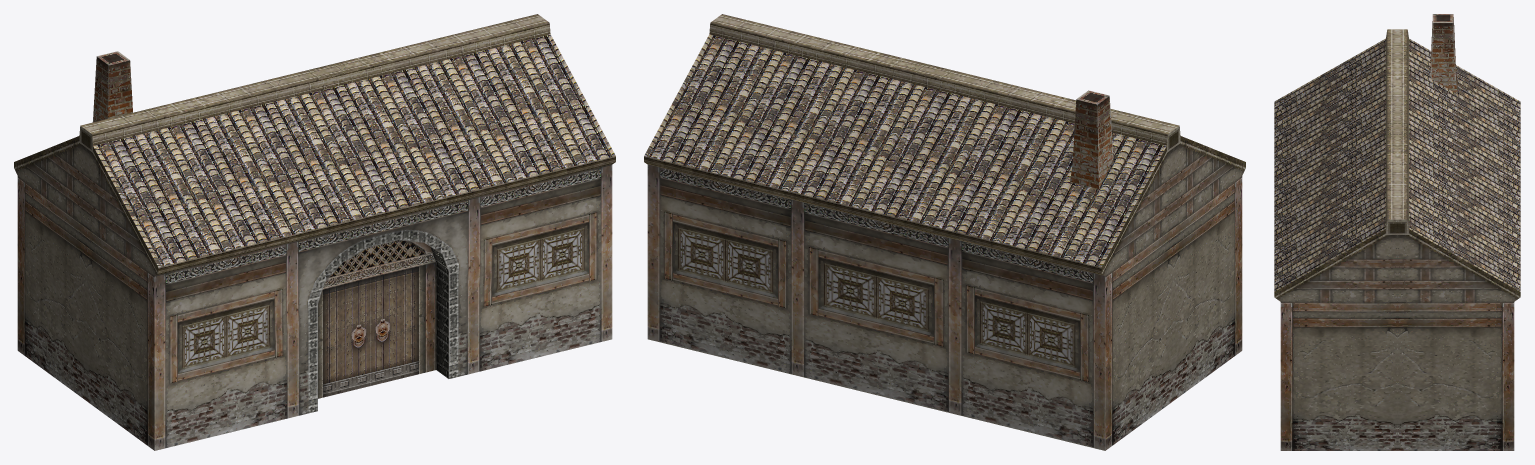
Rendered from auction_house02.FBX.
3 renders of one model, left to right at view 1: azimuth 30°, elevation 25°; view 2: azimuth 150°, elevation 25°; view 3: azimuth 270°, elevation 25°, orthographic. The views are drawn at different scales.
Visible parts, largest first — view 1: auction_house02; view 2: auction_house02; view 3: auction_house02.
Boxes of the visible parts, x1,y1,x2,y2 form: auction_house02: [14, 14, 615, 450]; auction_house02: [644, 14, 1245, 450]; auction_house02: [1274, 14, 1520, 450].
Size of the model in its own units: 1335 by 864 by 729.
Materials: 4 (4 with a texture image).
